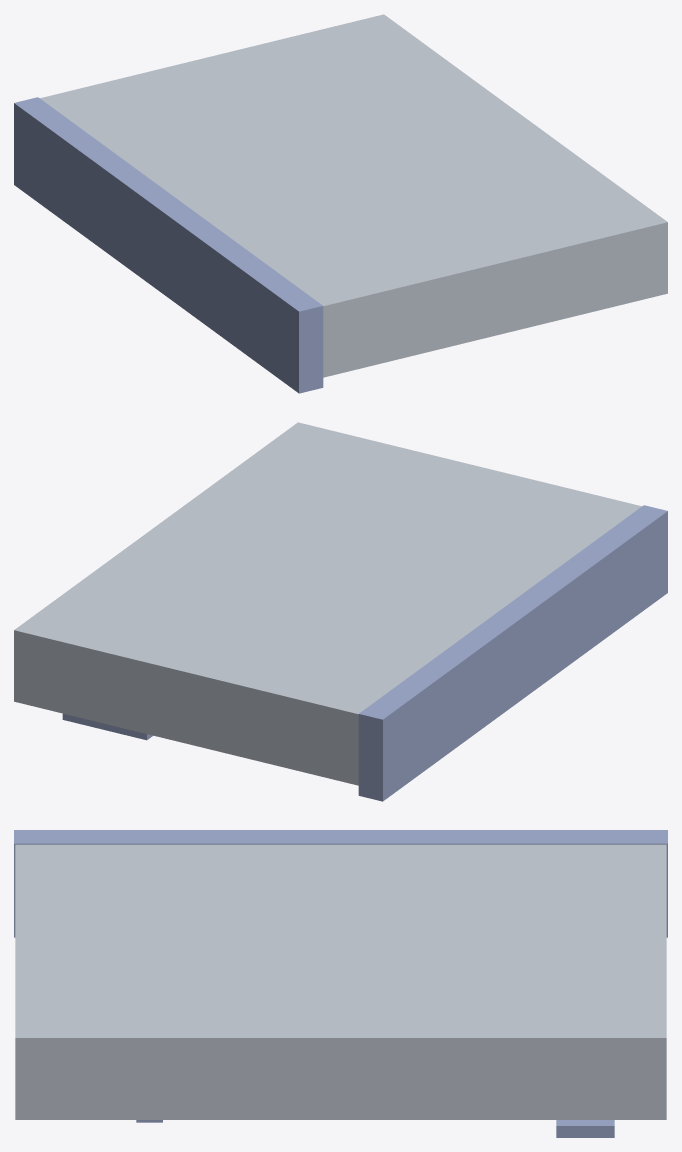
Rendered from isometric.glb.
3 views of the same model, one above another, from view 1: azimuth 30°, elevation 25°; view 2: azimuth 150°, elevation 25°; view 3: azimuth 270°, elevation 25° (orthographic). The views are drawn at different scales.
Parts seen in each view (by area): view 1: Iso World carton, Iso World spine; view 2: Iso World carton, Iso World spine, Iso World edition chip; view 3: Iso World carton, Iso World spine, Iso World edition chip.
Boxes of the visible parts, x1,y1,x2,y2 form: Iso World carton: (40, 14, 667, 377); Iso World spine: (14, 97, 323, 393); Iso World carton: (14, 422, 641, 785); Iso World spine: (358, 505, 667, 801); Iso World edition chip: (62, 713, 152, 740); Iso World carton: (15, 844, 666, 1119); Iso World spine: (14, 830, 667, 937); Iso World edition chip: (556, 1120, 614, 1137).
Size of the model in its own units: 1.84 by 0.4825 by 2.46.
